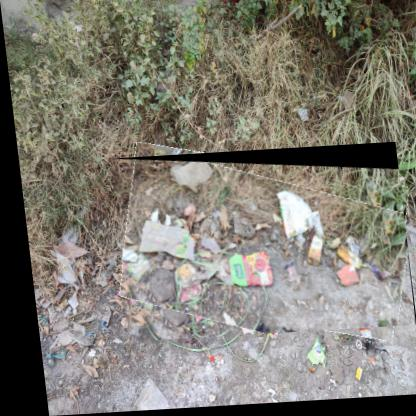Garbage: (107, 147, 410, 345)
